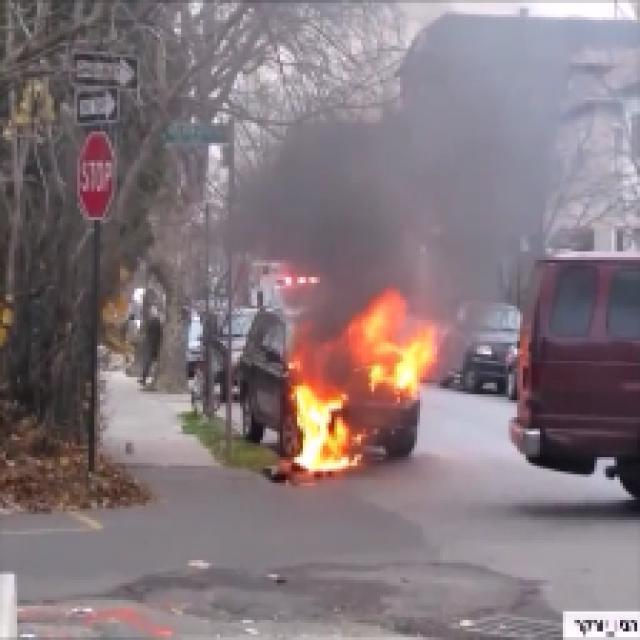Fire: (286, 316, 424, 478)
Smoke: (268, 90, 524, 270)
